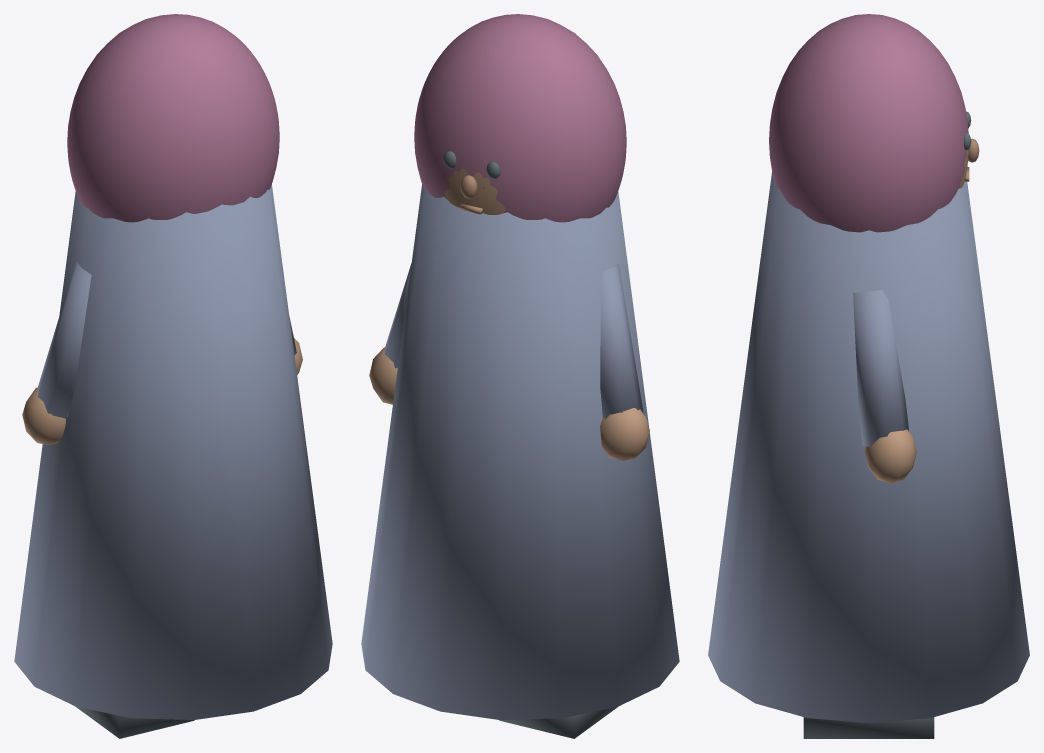
Rendered from muslim_girl.glb.
3 views of the same model, side by side, from view 1: azimuth 30°, elevation 25°; view 2: azimuth 150°, elevation 25°; view 3: azimuth 270°, elevation 25° (orthographic).
Visible parts, largest first — view 1: ped_woman_mat_00_long_abaya, ped_woman_mat_01_hijab_head_cover, ped_woman_mat_02_face, ped_woman_mat_03_eye_-1; view 2: ped_woman_mat_00_long_abaya, ped_woman_mat_01_hijab_head_cover, ped_woman_mat_02_face, ped_woman_mat_03_eye_-1; view 3: ped_woman_mat_00_long_abaya, ped_woman_mat_01_hijab_head_cover, ped_woman_mat_03_eye_-1, ped_woman_mat_02_face.
Boxes of the visible parts, box(x1,y1,x2,y2) form: ped_woman_mat_00_long_abaya: box(14, 184, 332, 719); ped_woman_mat_01_hijab_head_cover: box(67, 14, 279, 222); ped_woman_mat_02_face: box(22, 338, 302, 444); ped_woman_mat_03_eye_-1: box(76, 706, 194, 738); ped_woman_mat_00_long_abaya: box(361, 184, 679, 719); ped_woman_mat_01_hijab_head_cover: box(414, 14, 626, 222); ped_woman_mat_02_face: box(369, 168, 649, 460); ped_woman_mat_03_eye_-1: box(443, 151, 617, 738); ped_woman_mat_00_long_abaya: box(708, 172, 1029, 723); ped_woman_mat_01_hijab_head_cover: box(769, 14, 968, 232); ped_woman_mat_03_eye_-1: box(803, 111, 971, 738); ped_woman_mat_02_face: box(864, 149, 968, 483).
Size of the model in its own units: 0.74 by 1.71 by 0.74.
